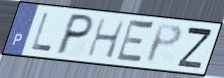E: (113, 17, 157, 66)
H: (85, 17, 128, 61)
L: (29, 11, 53, 54)
P: (53, 12, 97, 57), (144, 22, 184, 66)
Z: (176, 25, 215, 71)
